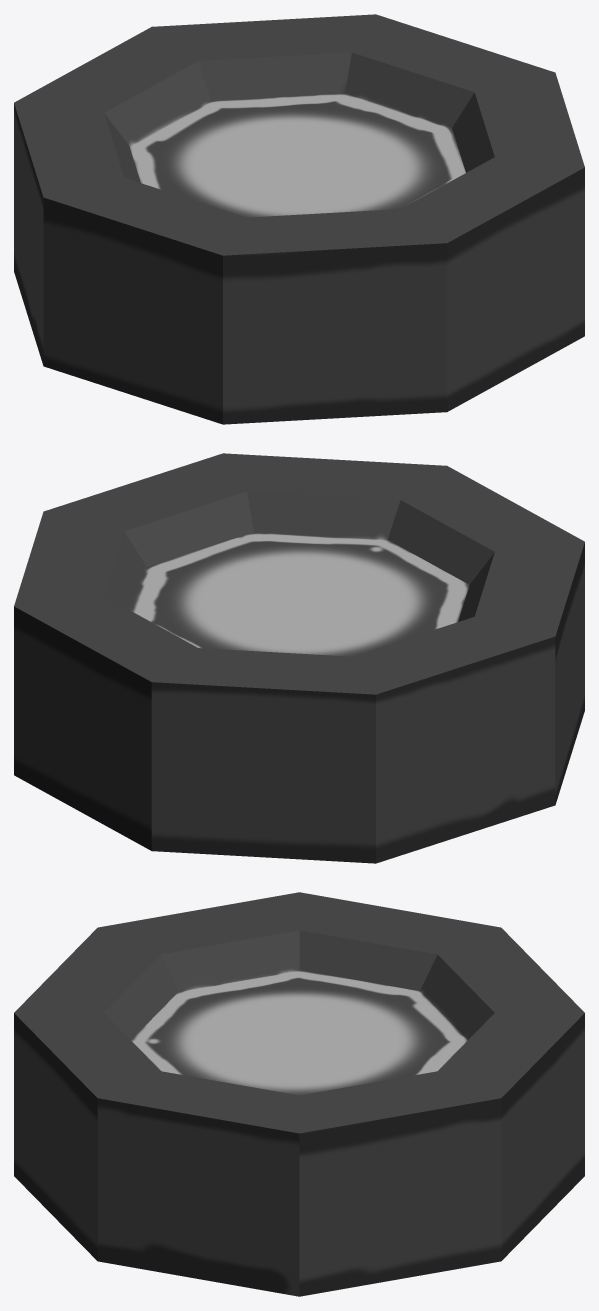
File: Tire.fbx
3 views of the same model, one above another, from view 1: azimuth 30°, elevation 25°; view 2: azimuth 150°, elevation 25°; view 3: azimuth 270°, elevation 25° (orthographic). The views are drawn at different scales.
Parts seen in each view (by area): view 1: Cylinder; view 2: Cylinder; view 3: Cylinder.
Part boxes in pixels (x1,y1,x2,y2): Cylinder: (14,14,584,424); Cylinder: (14,453,584,863); Cylinder: (14,892,584,1296).
Bounding box in the file's own units: 131 × 41.2 × 131.
